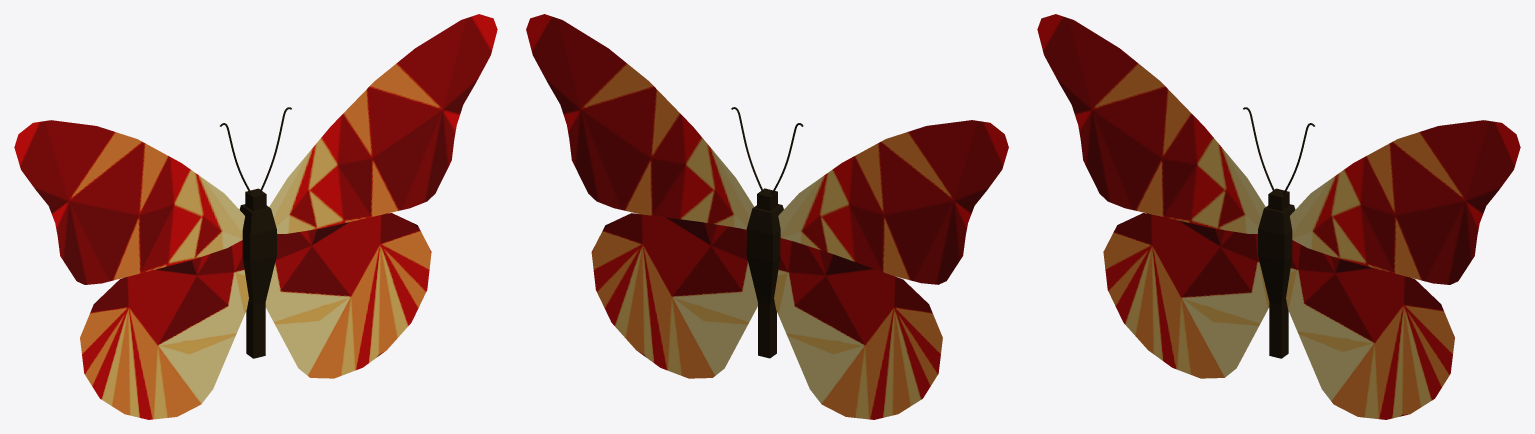
File: Butterfly2.fbx
3 renders of one model, left to right at view 1: azimuth 30°, elevation 25°; view 2: azimuth 150°, elevation 25°; view 3: azimuth 330°, elevation 25°, orthographic.
Visible parts, largest first — view 1: Wings1.001, Wings2, Butterfly; view 2: Wings1.001, Wings2, Butterfly; view 3: Wings1.001, Wings2, Butterfly.
Part boxes in pixels (x1,y1,x2,y2): Wings1.001: (14,14,497,284); Wings2: (80,213,431,419); Butterfly: (220,107,291,358); Wings1.001: (526,14,1008,284); Wings2: (591,213,942,419); Butterfly: (731,107,803,358); Wings1.001: (1037,14,1520,284); Wings2: (1103,213,1454,419); Butterfly: (1243,107,1314,358).
Size of the model in its own units: 54.95 by 35.8 by 3.01.
